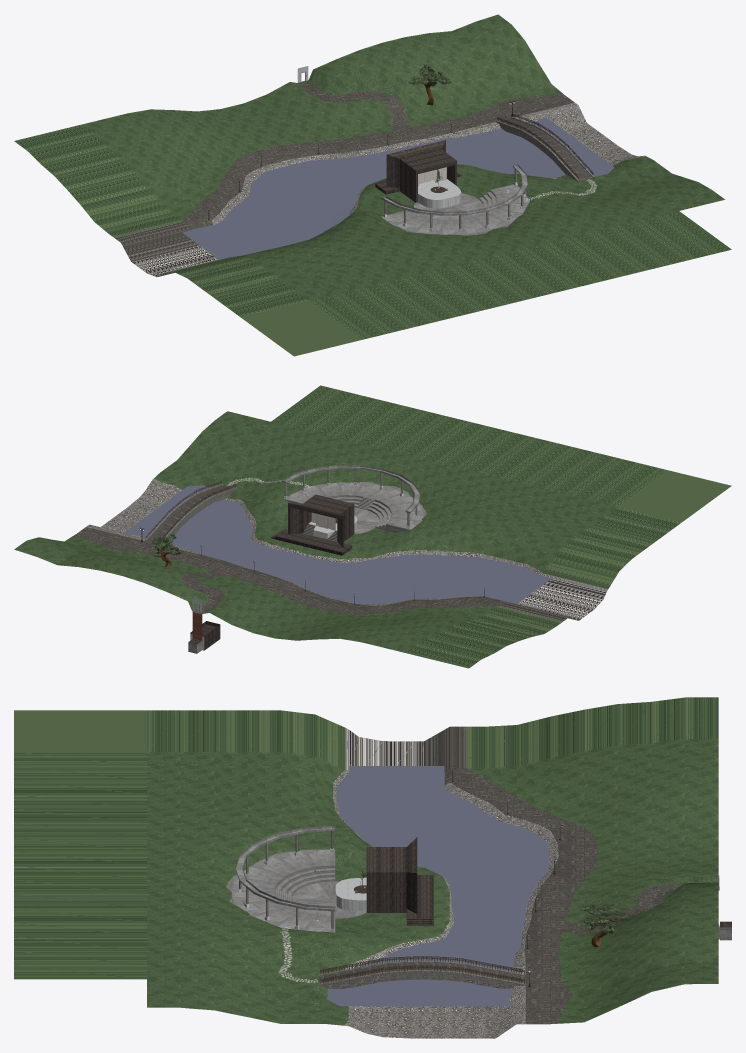
The picture shows the model from 3 angles, top to bottom: view 1: azimuth 30°, elevation 25°; view 2: azimuth 150°, elevation 25°; view 3: azimuth 270°, elevation 25°; orthographic projection. The views are drawn at different scales.
Visible parts, largest first — view 1: PhysMesh; view 2: PhysMesh; view 3: PhysMesh.
Part boxes in pixels (bbox=[...]): PhysMesh: bbox=[14, 14, 731, 356]; PhysMesh: bbox=[14, 385, 731, 668]; PhysMesh: bbox=[14, 697, 719, 1038].
Size of the model in its own units: 130 by 17.38 by 133.
Materials: 7 (3 with a texture image).
